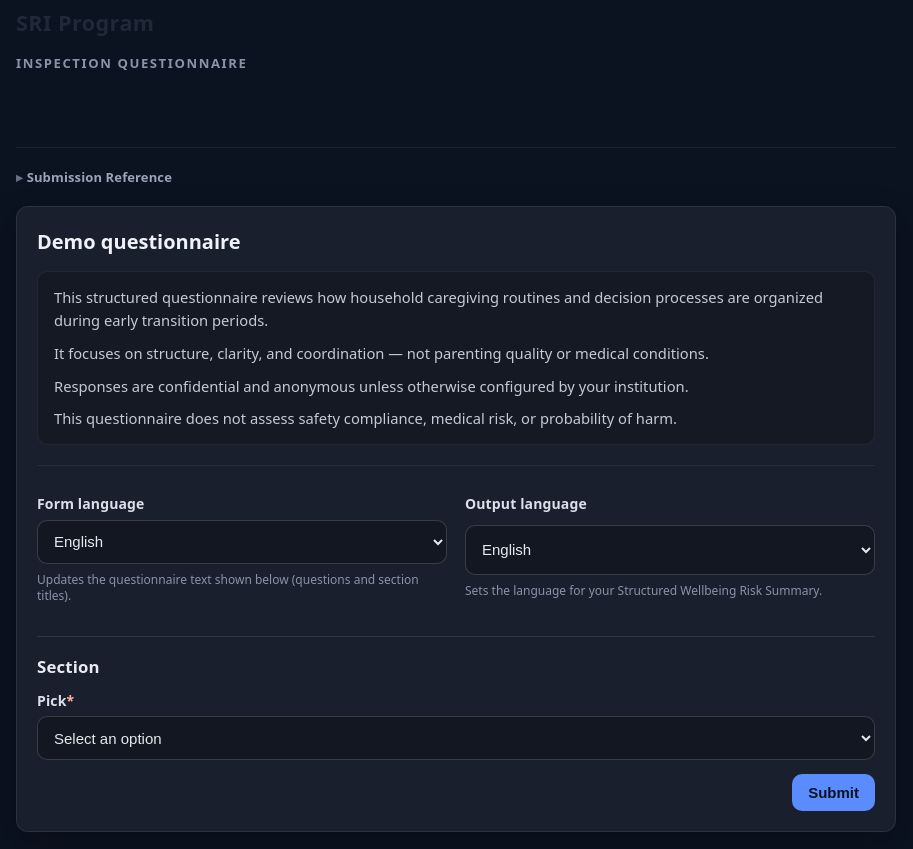
Test case: FormPage › after submit, shows submission received without disabled-looking prior-submit label
Expected: the button "Submit" is shown, [792,774,875,811]
Select "One" in the dropdown labelled "Pick*" at point(456, 738), box [37,716,875,760]
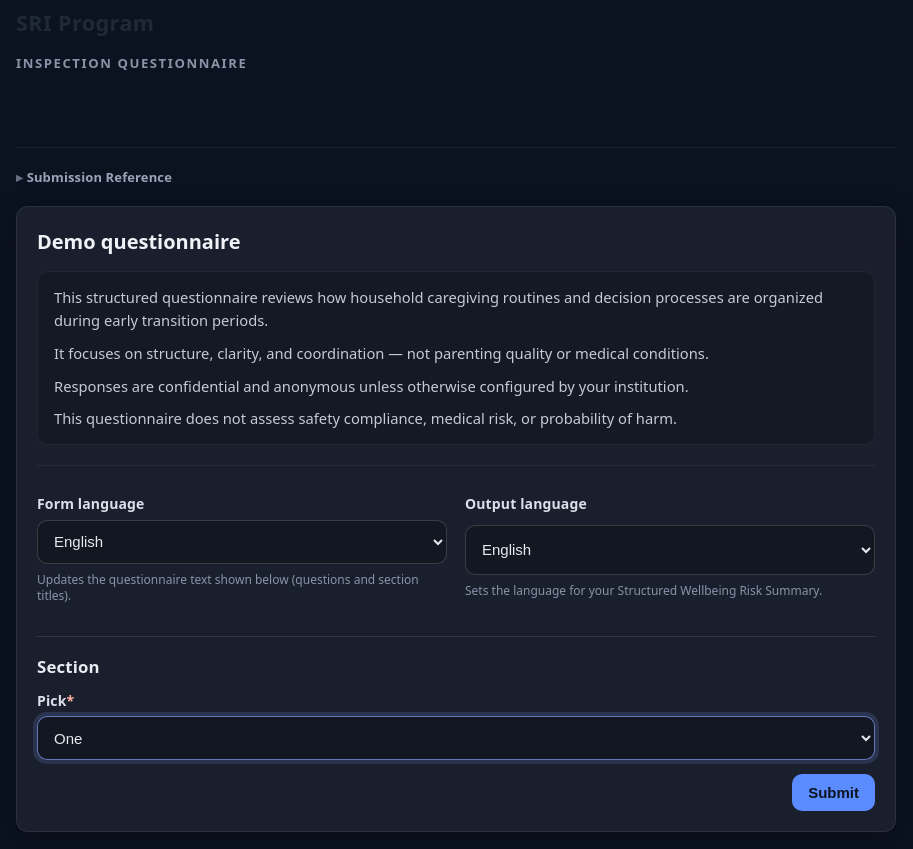
Click the button "Submit" at point(834, 793), box [792,774,875,811]
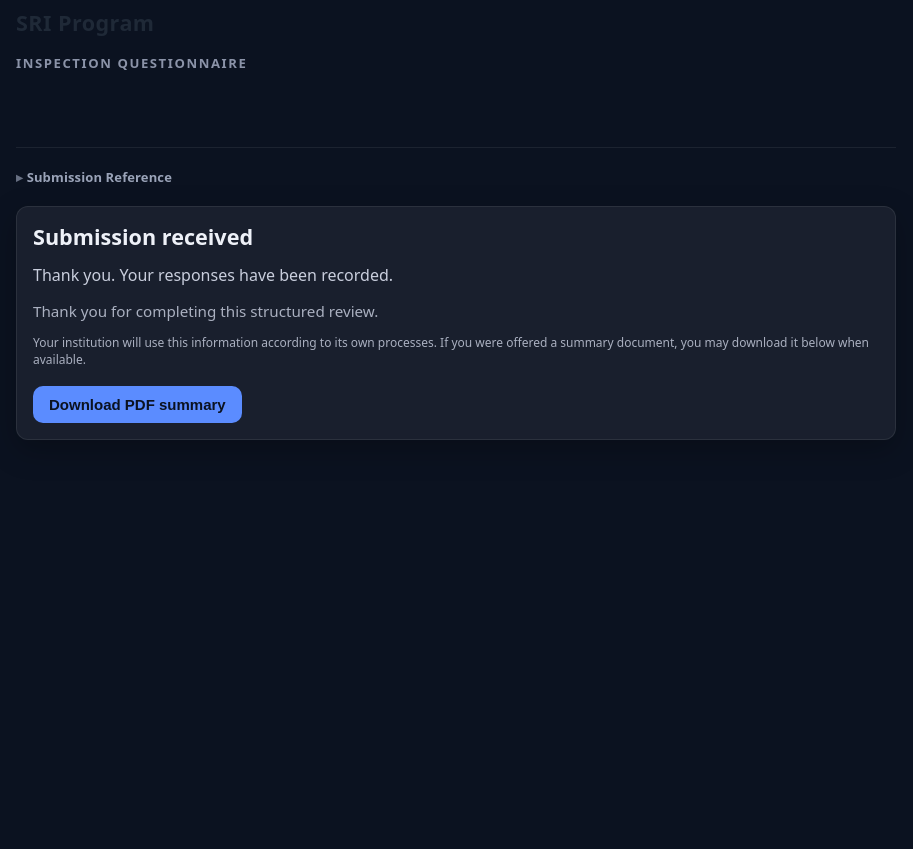
Expected: the button "Download PDF summary" is enabled, [33,386,242,423]
Now the heading "Submission received" is shown, box [33,222,253,251]
